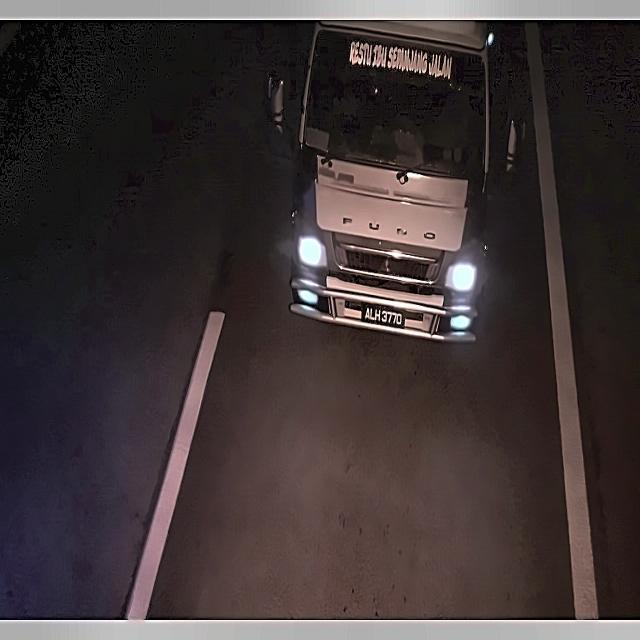car: (356, 297, 408, 334)
